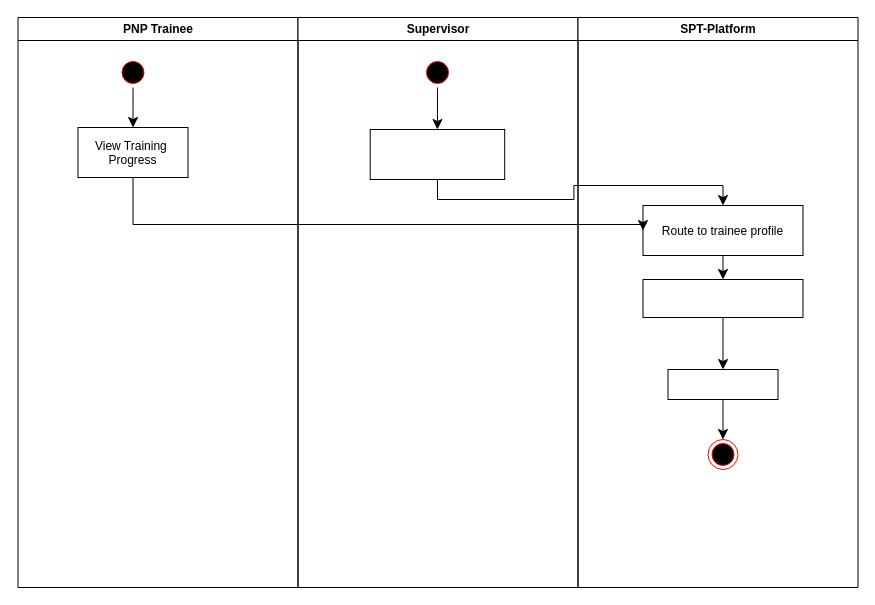
Image size: 875x605. Some labels were removed from this diagram. Each missing label, with the centre of its shape:
Display trainee Information: (x=722, y=384)
Filter / Select trainee name: (x=437, y=154)
Middleware validates Role Access: (x=722, y=298)
